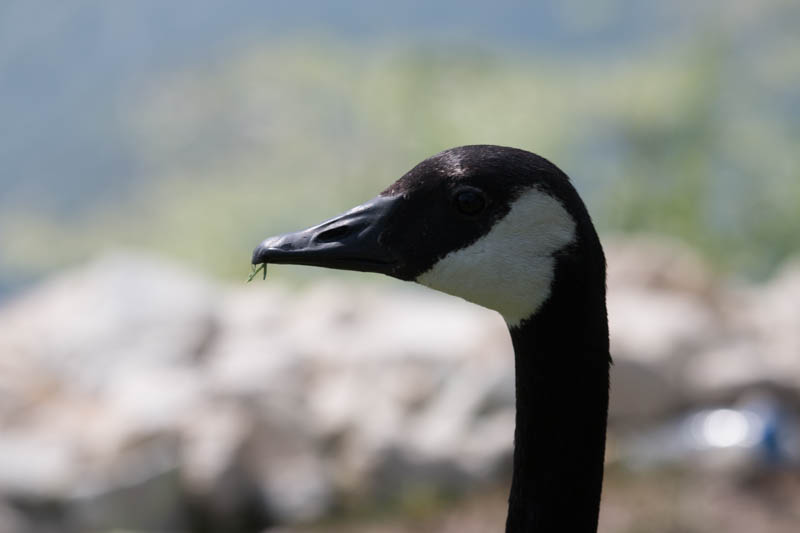goose-head: (249, 145, 607, 327)
